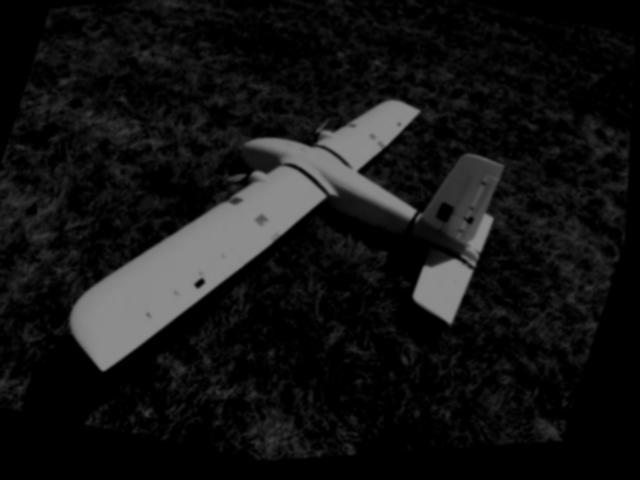hedef: (21, 0, 565, 478)
